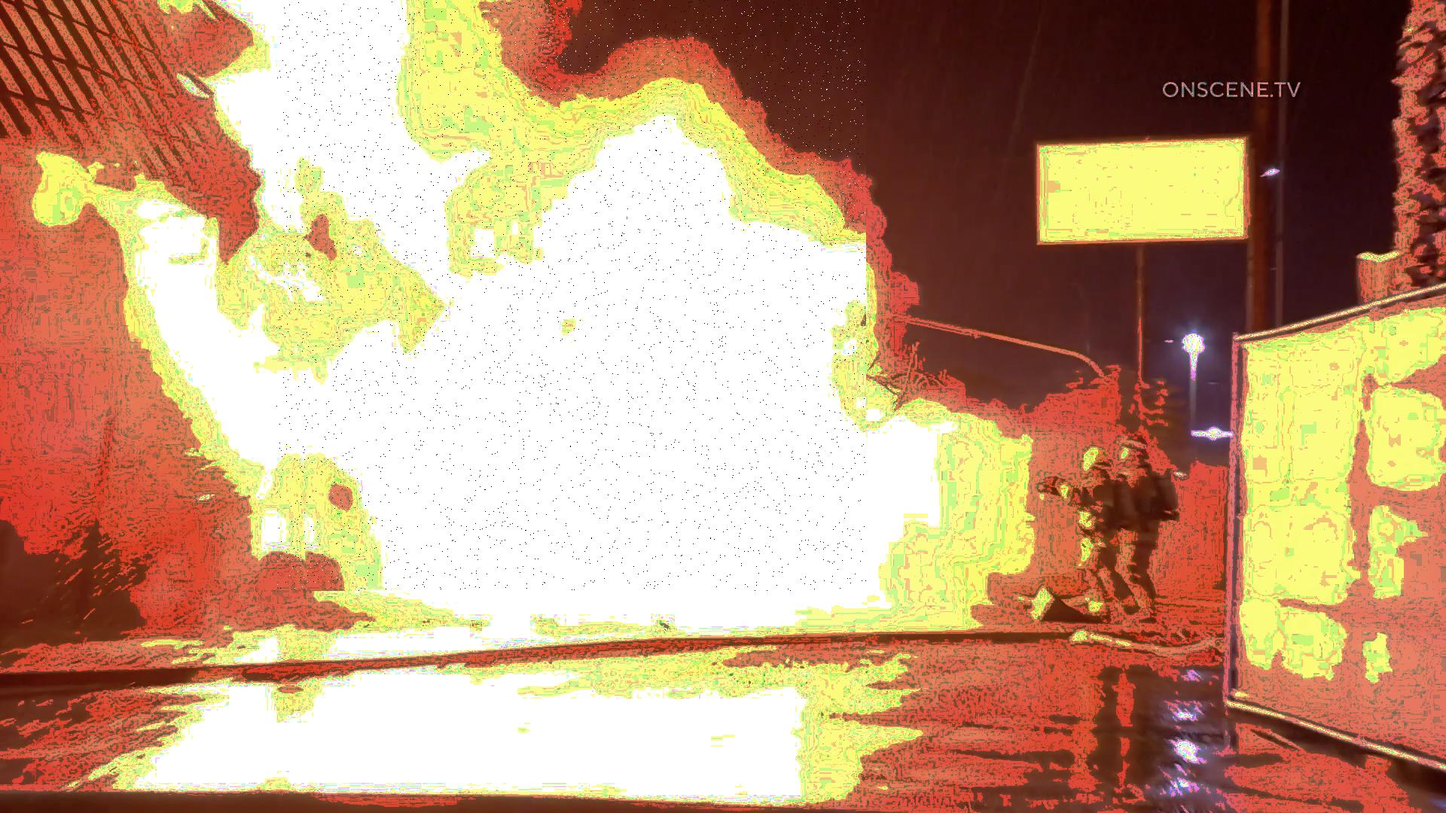fire: (276, 0, 866, 591)
